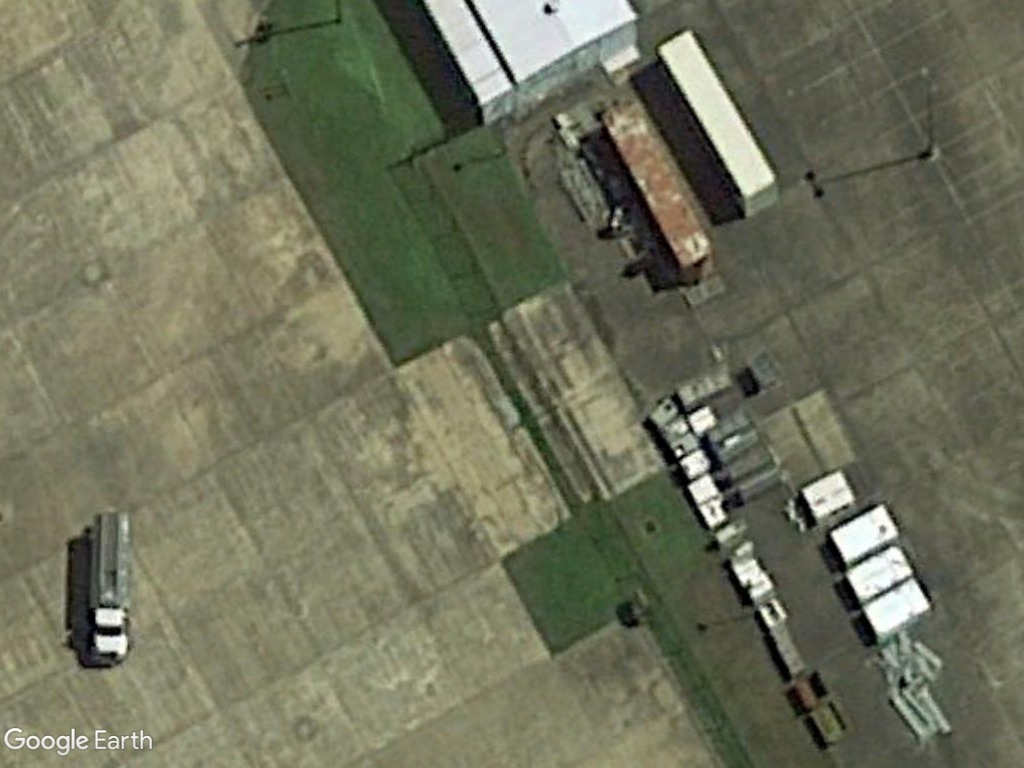longvehicle: (654, 24, 783, 220)
other: (81, 507, 137, 668)
